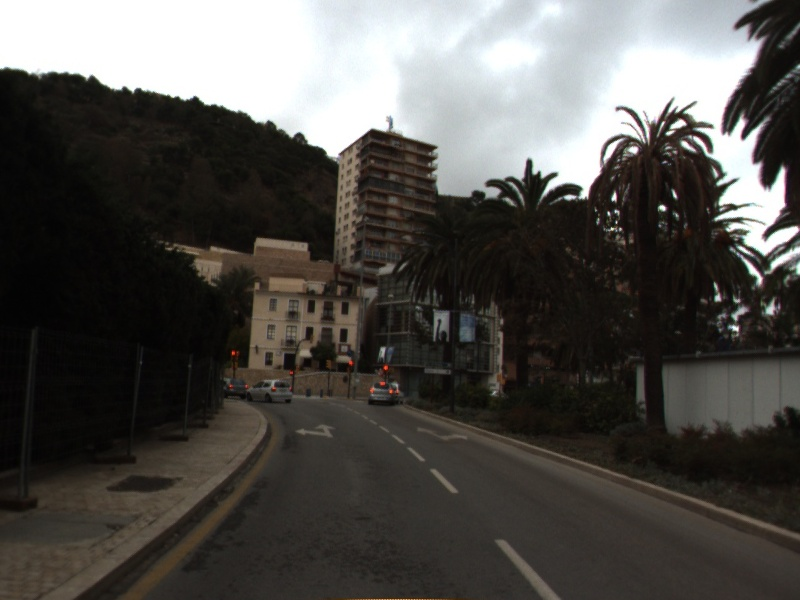STRAIGHT_LEFT: (293, 422, 339, 440)
STRAIGHT_RIGHT: (415, 424, 470, 444)
